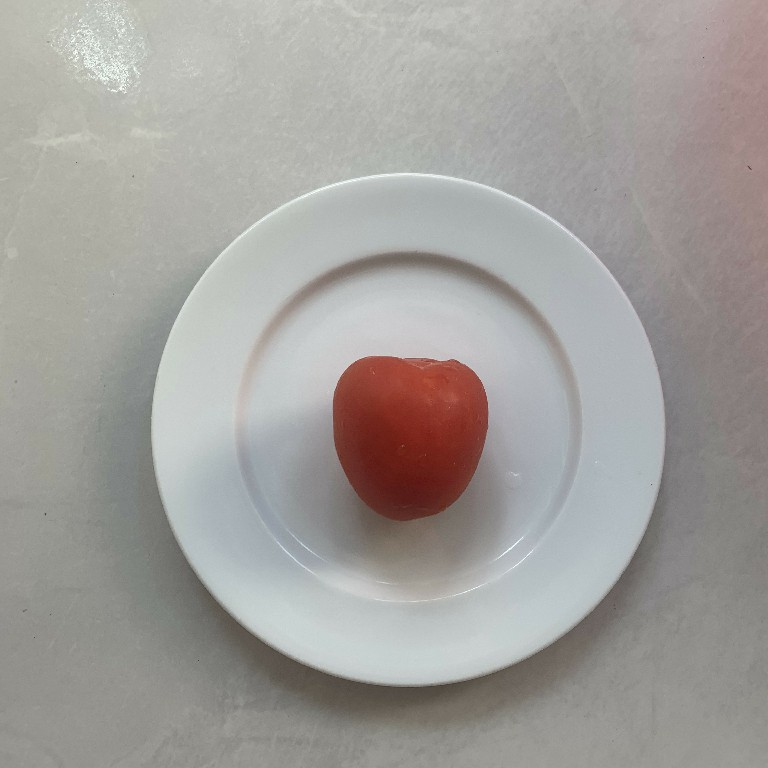OK: (318, 346, 494, 531)
